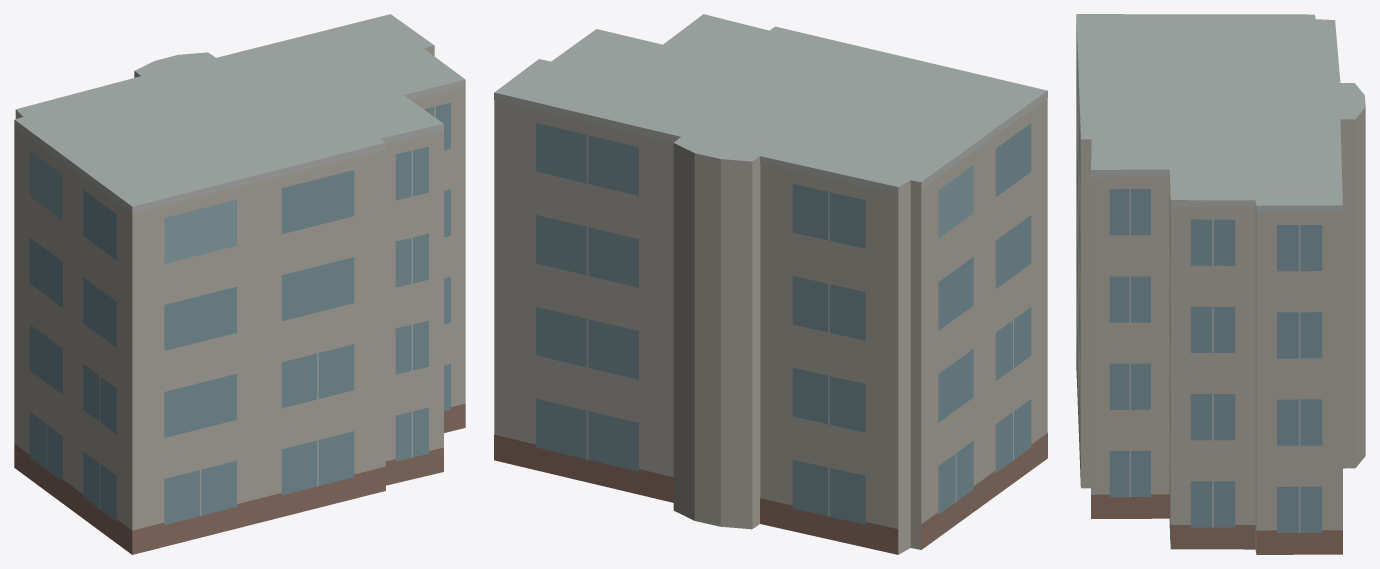
The model's file is survey-upis-32620788.glb.
3 views of the same model, side by side, from view 1: azimuth 30°, elevation 25°; view 2: azimuth 150°, elevation 25°; view 3: azimuth 270°, elevation 25° (orthographic). The views are drawn at different scales.
Visible parts, largest first — view 1: survey-upis-32620788.tmp; view 2: survey-upis-32620788.tmp; view 3: survey-upis-32620788.tmp.
Boxes of the visible parts, x1=… form: survey-upis-32620788.tmp: x1=14, y1=14, x2=465, y2=554; survey-upis-32620788.tmp: x1=494, y1=14, x2=1047, y2=554; survey-upis-32620788.tmp: x1=1076, y1=14, x2=1365, y2=554.
Size of the model in its own units: 14.39 by 12.2 by 9.17.
